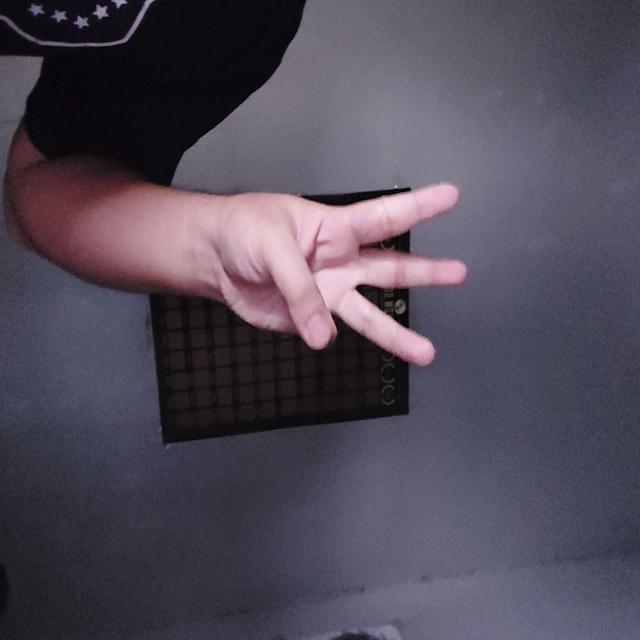W: (179, 172, 367, 418)
